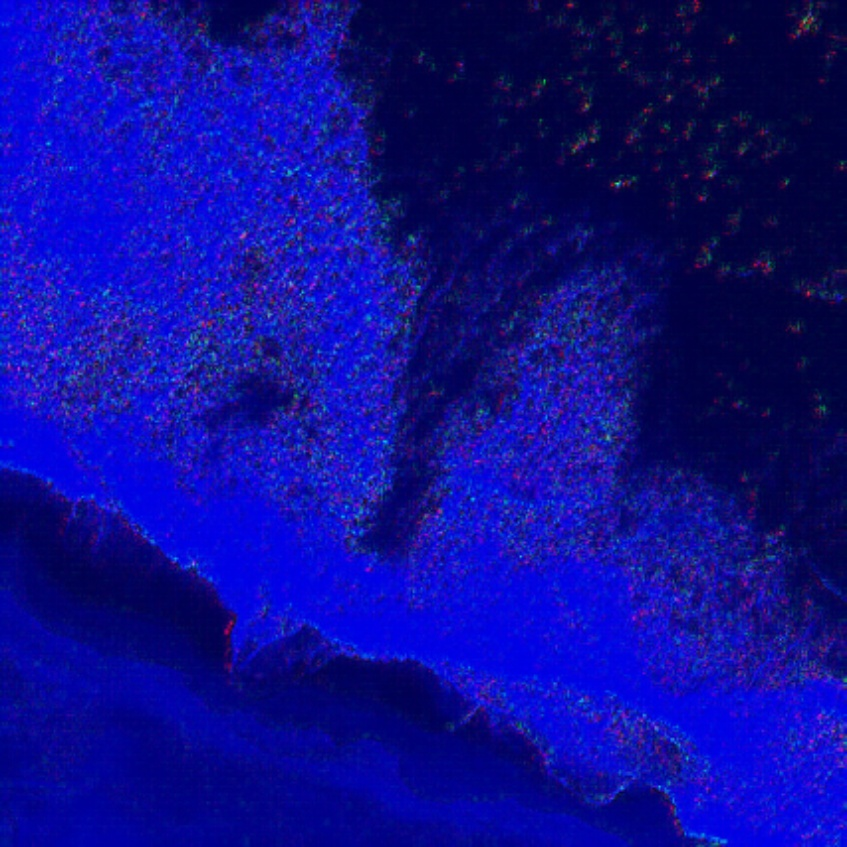rip_current: (343, 161, 563, 586)
